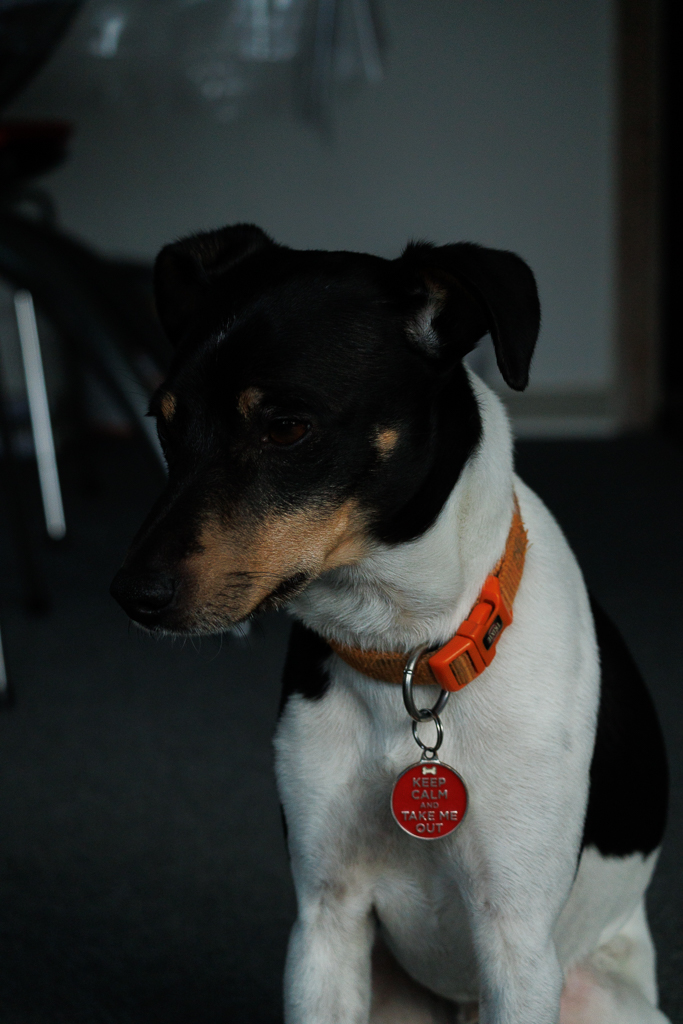Dog: (98, 210, 683, 1024)
